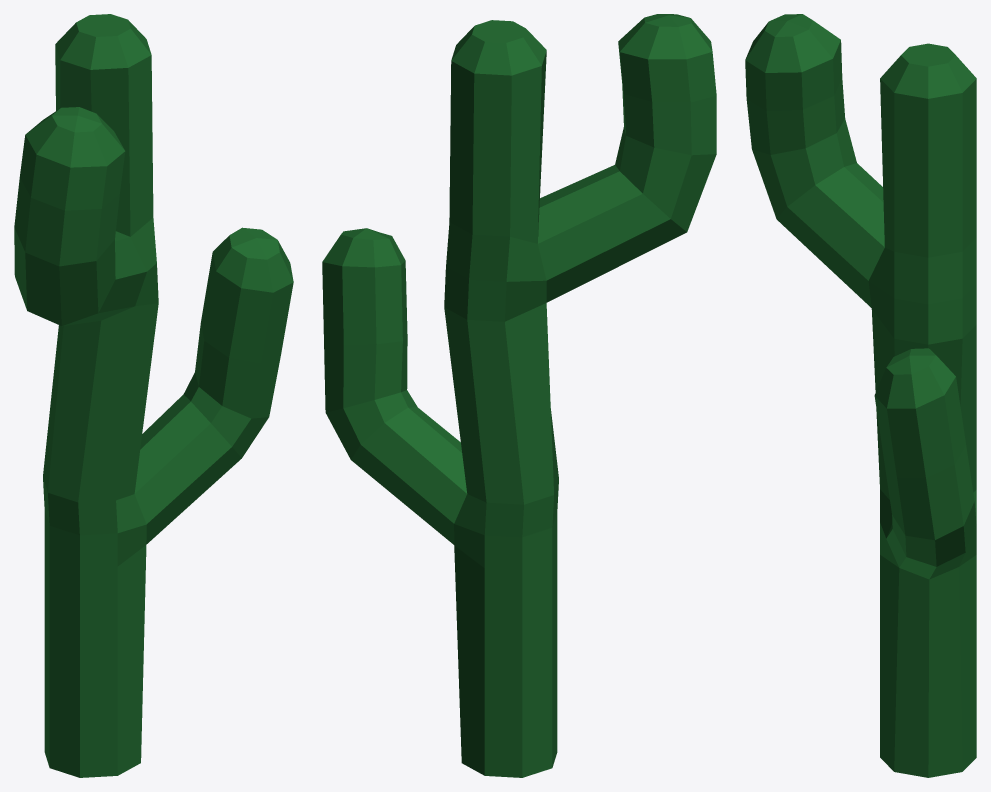
File: cactus1.fbx
3 renders of one model, left to right at view 1: azimuth 30°, elevation 25°; view 2: azimuth 150°, elevation 25°; view 3: azimuth 270°, elevation 25°, orthographic. The views are drawn at different scales.
Visible parts, largest first — view 1: 平面; view 2: 平面; view 3: 平面.
Part boxes in pixels (<box>): 平面: <box>14,14,293,777</box>; 平面: <box>322,14,716,777</box>; 平面: <box>745,14,976,777</box>.
Bounding box in the file's own units: 326 × 691 × 205.
